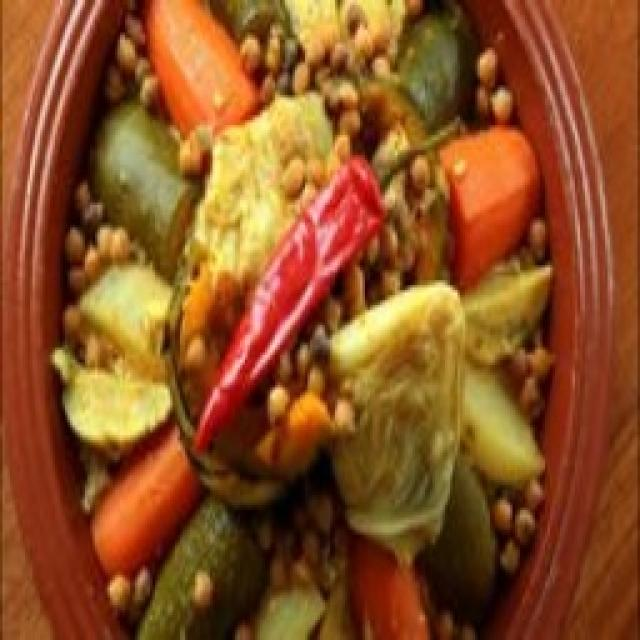Couscous: (52, 0, 552, 640)
